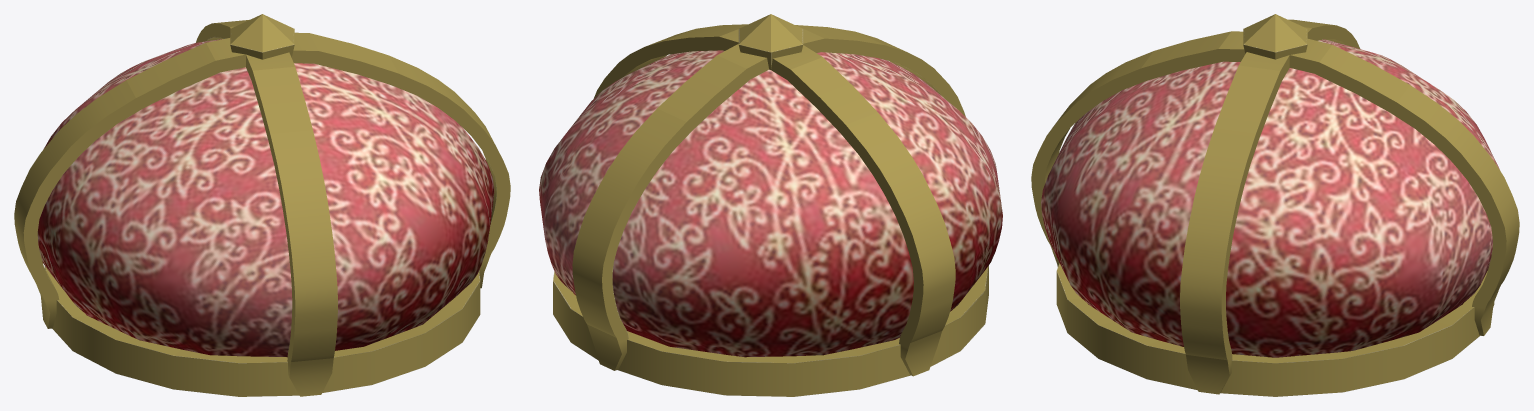
Rendered from Crown.fbx.
3 renders of one model, left to right at view 1: azimuth 30°, elevation 25°; view 2: azimuth 150°, elevation 25°; view 3: azimuth 270°, elevation 25°, orthographic.
Visible parts, largest first — view 1: group16; view 2: group16; view 3: group16.
Boxes of the visible parts, <box> form: group16: <box>14,14,510,396</box>; group16: <box>539,14,1002,396</box>; group16: <box>1031,14,1519,396</box>.
Bounding box in the file's own units: 90.54 × 59.43 × 90.54.
